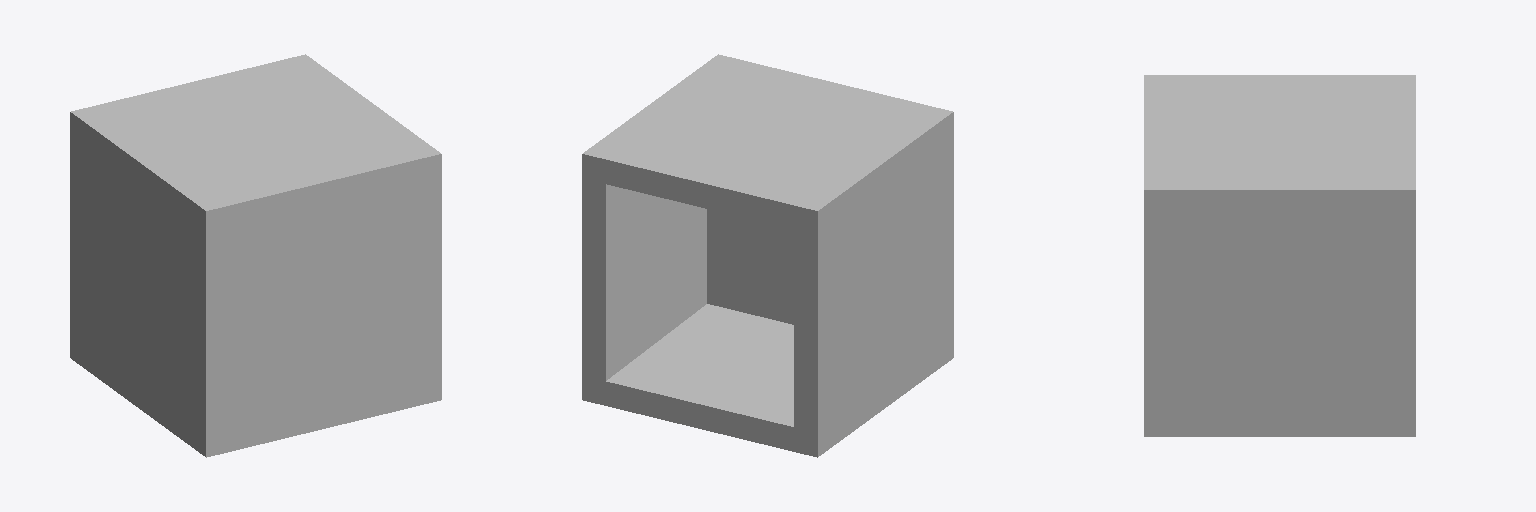
The model's file is thruster_rocket_internal.obj.
3 renders of one model, left to right at view 1: azimuth 30°, elevation 25°; view 2: azimuth 150°, elevation 25°; view 3: azimuth 270°, elevation 25°, orthographic.
Parts seen in each view (by area): view 1: thruster_rocket_internal_Cube; view 2: thruster_rocket_internal_Cube; view 3: thruster_rocket_internal_Cube.
Part boxes in pixels (x1,y1,x2,y2): thruster_rocket_internal_Cube: (70,54,441,457); thruster_rocket_internal_Cube: (582,54,953,457); thruster_rocket_internal_Cube: (1144,75,1415,436).
Size of the model in its own units: 1 by 1 by 1.